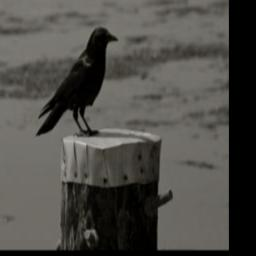Crow: (33, 23, 118, 142)
